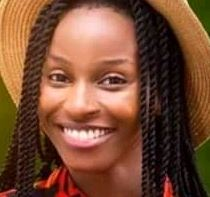without_facemask: (37, 95, 136, 178)
